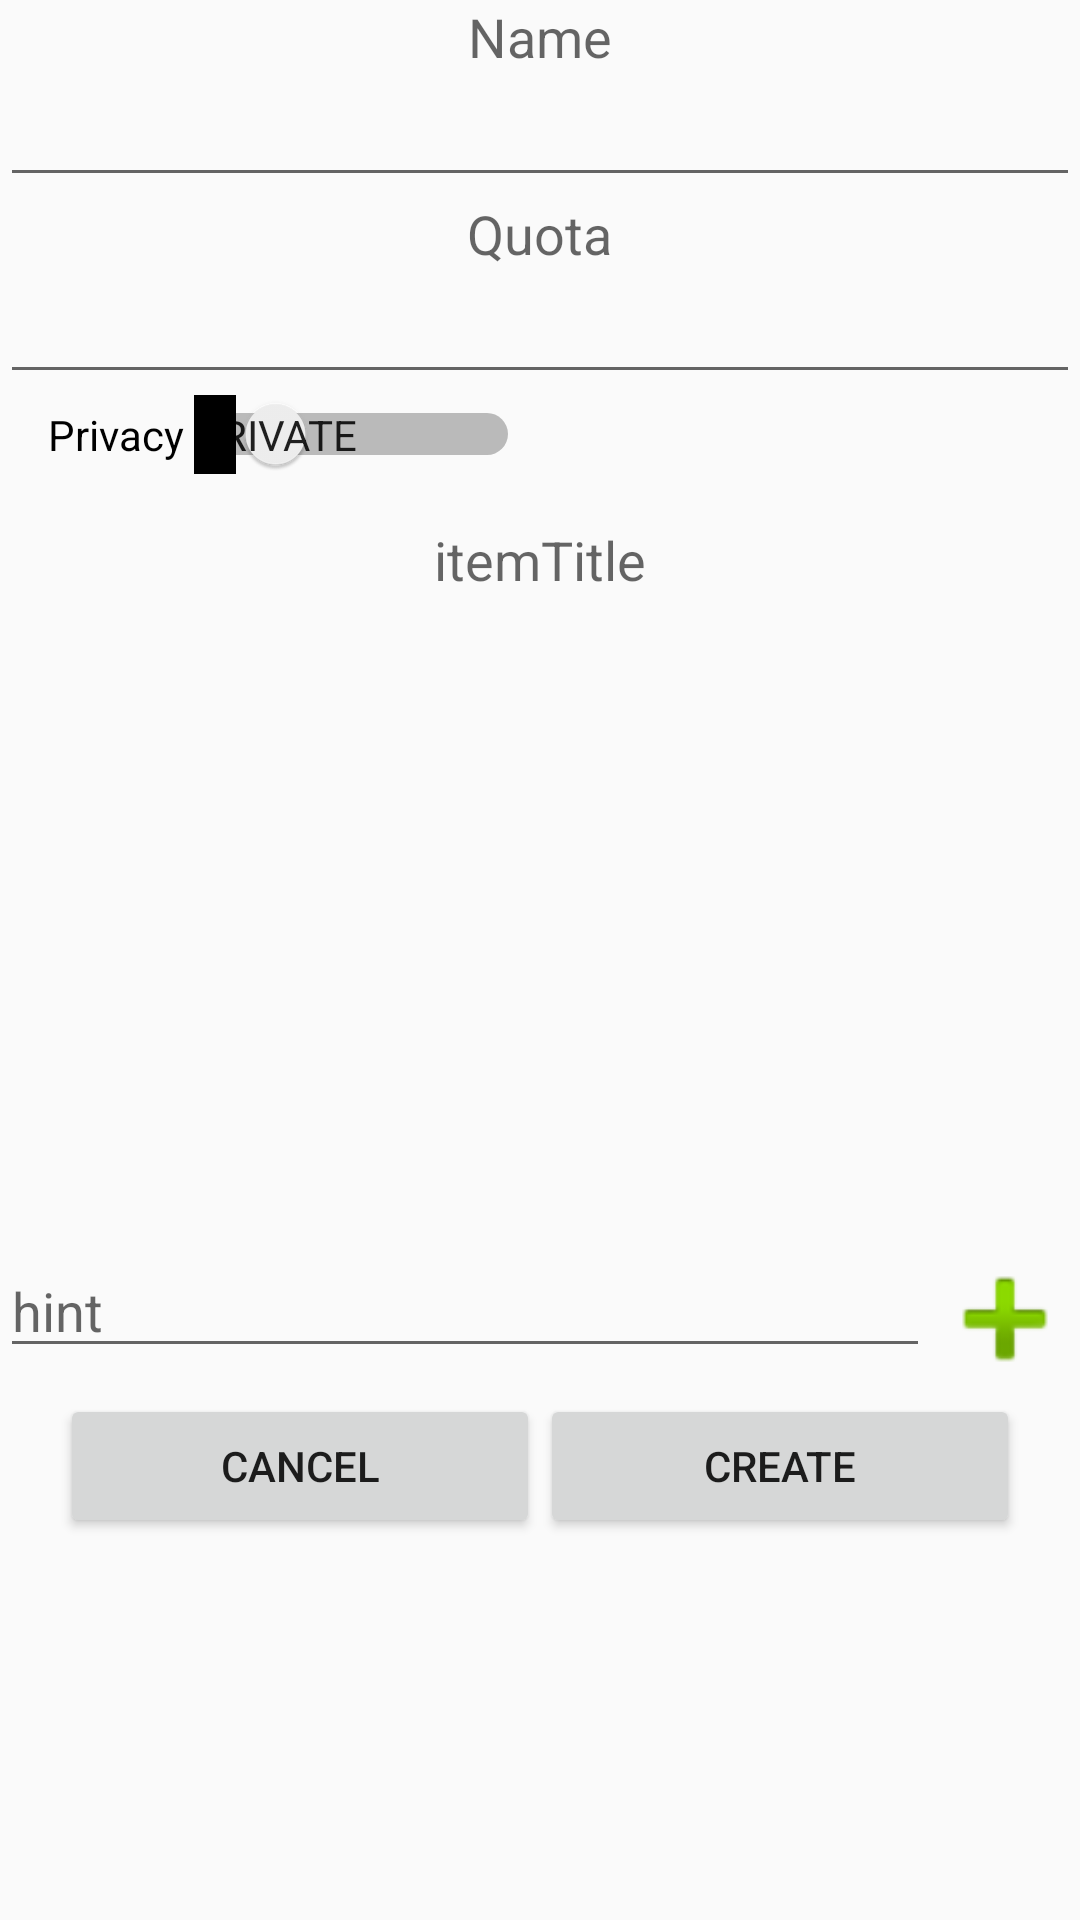

Icons on this 1080x1920 Android screen, each with the point to tap as (x,y):
add: (1005,1319)
